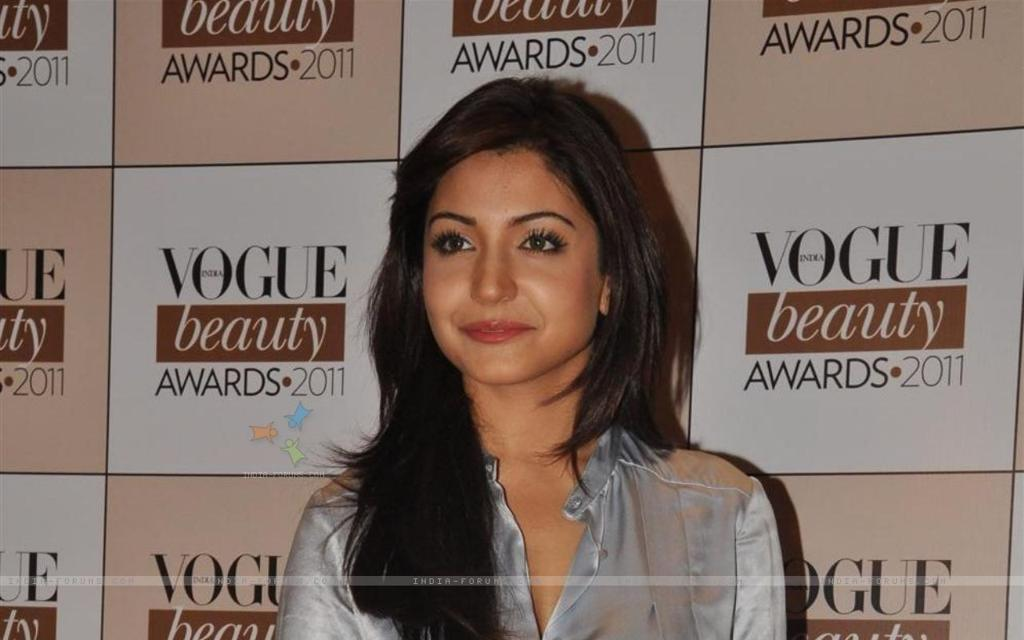face: (422, 144, 602, 376)
